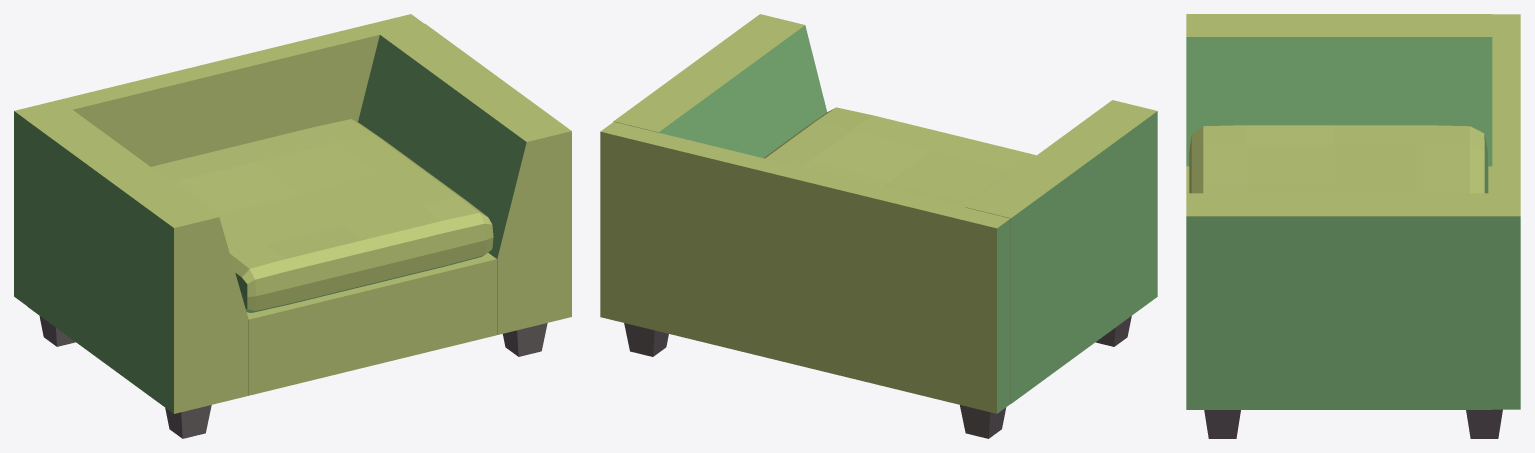
The model's file is Sofa V2 Single.fbx.
The picture shows the model from 3 angles, left to right: view 1: azimuth 30°, elevation 25°; view 2: azimuth 150°, elevation 25°; view 3: azimuth 270°, elevation 25°; orthographic projection. The views are drawn at different scales.
Visible parts, largest first — view 1: Sofa V2 Single; view 2: Sofa V2 Single; view 3: Sofa V2 Single.
Part boxes in pixels (x1,y1,x2,y2): Sofa V2 Single: [14, 14, 571, 438]; Sofa V2 Single: [600, 14, 1157, 438]; Sofa V2 Single: [1186, 14, 1520, 438].
Bounding box in the file's own units: 271 × 146 × 189.
